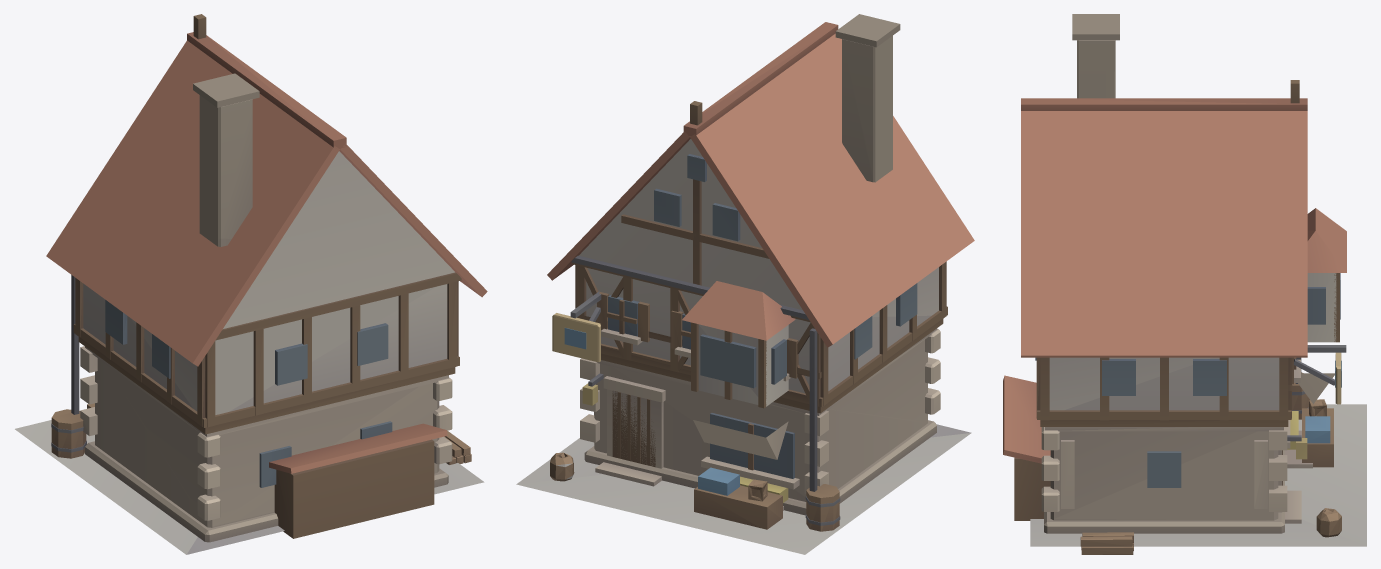
The model's file is house_merchants.v0.glb.
3 views of the same model, side by side, from view 1: azimuth 30°, elevation 25°; view 2: azimuth 150°, elevation 25°; view 3: azimuth 270°, elevation 25° (orthographic). The views are drawn at different scales.
Visible parts, largest first — view 1: house_merchants; view 2: house_merchants; view 3: house_merchants.
Boxes of the visible parts, x1,y1,x2,y2 form: house_merchants: (15,14,487,554); house_merchants: (516,14,974,554); house_merchants: (1003,14,1366,554).
Size of the model in its own units: 3.09 by 4.05 by 3.2.
